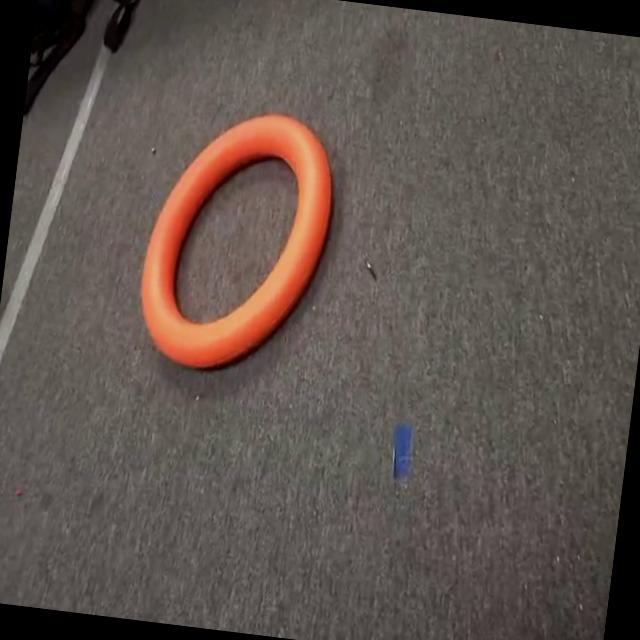note: (118, 93, 350, 383)
